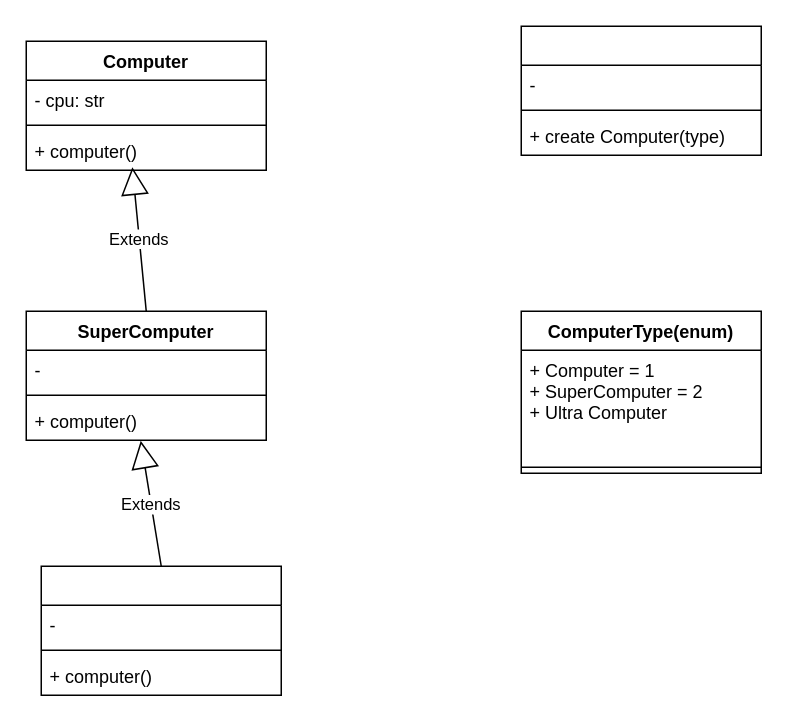
The diagram is 788 pixels wide and 726 high, and some of its shapes have lost their labels. Here are the shapes that lost their labels. From the top down, the box of each, then its label:
(520, 25, 761, 155): Factory
(40, 565, 281, 695): UltraComputer
